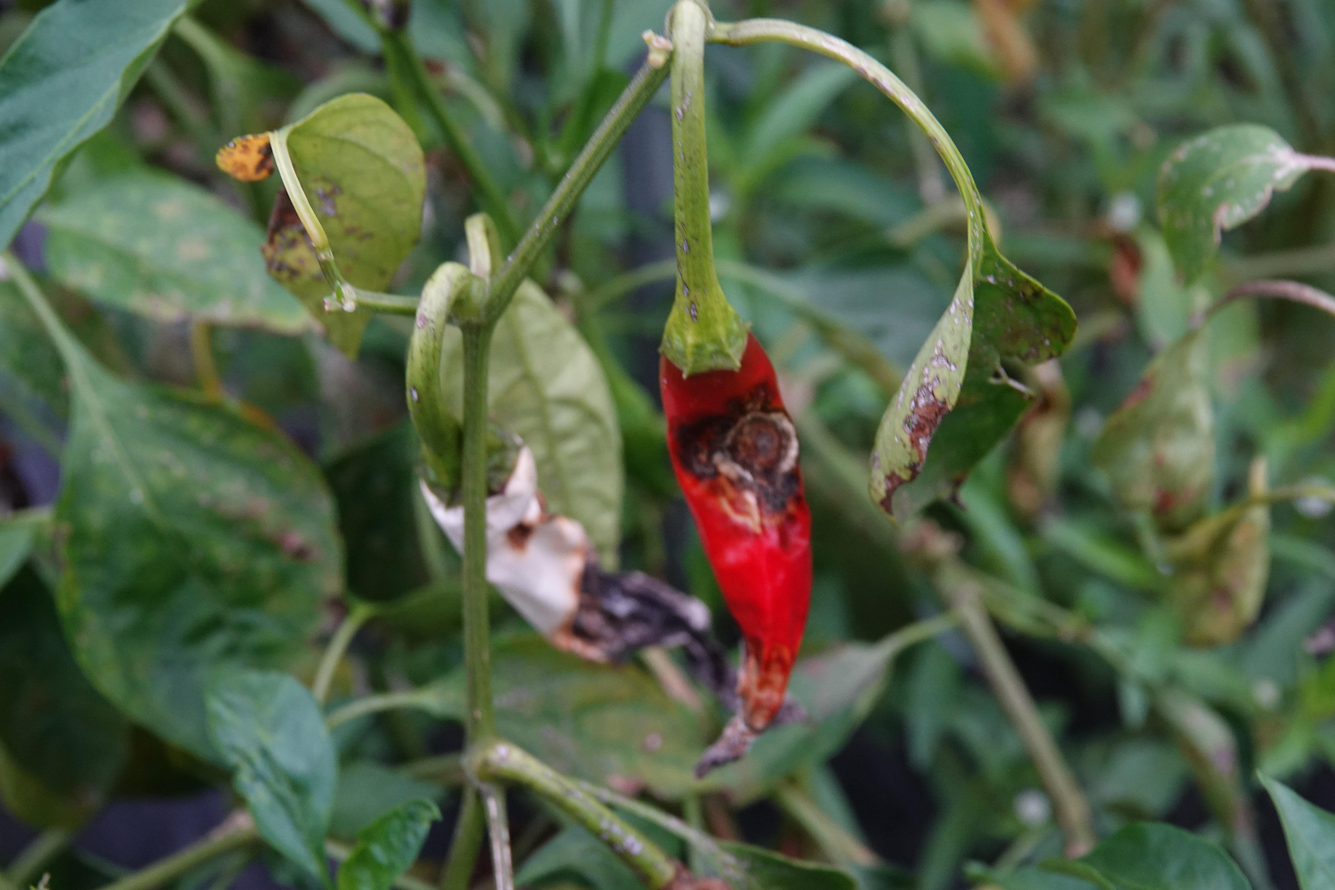Bercak Daun Serkospora: (44, 369, 345, 774), (862, 232, 1082, 530), (234, 96, 423, 349)
Busuk Buah Antraknosa: (412, 429, 756, 772), (655, 323, 817, 736)
